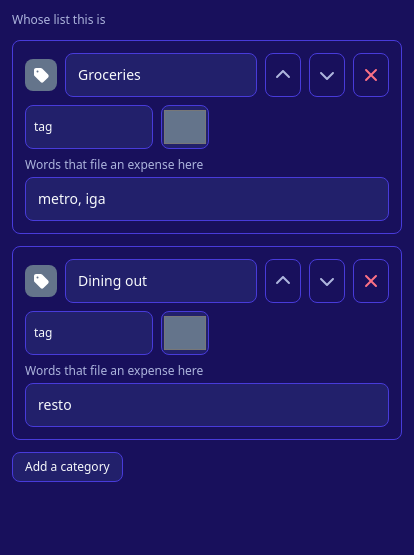
the category editor › puts everything back on cancel
This screenshot has width=414, height=555.
Replace the text in the 1st field with test id "category-name" with "Epicerie" at (161, 75), box [65, 53, 257, 97]
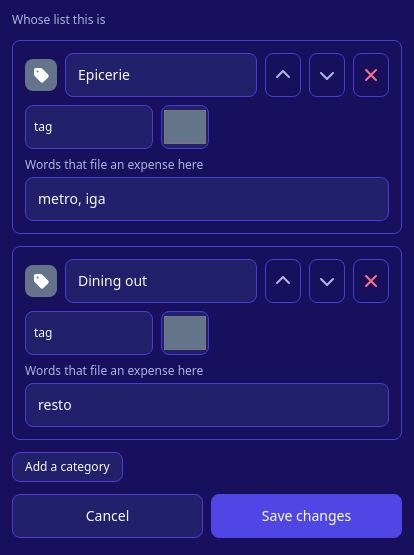
Click the button with test id "cancel-categories" at (108, 516), box [12, 494, 203, 538]
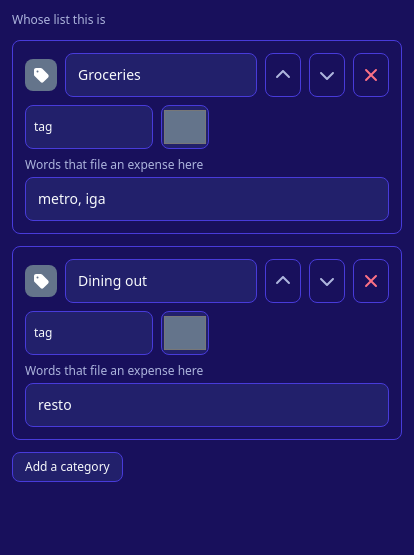
Now the 1st field with test id "category-name" holds "Groceries", box [65, 53, 257, 97]
